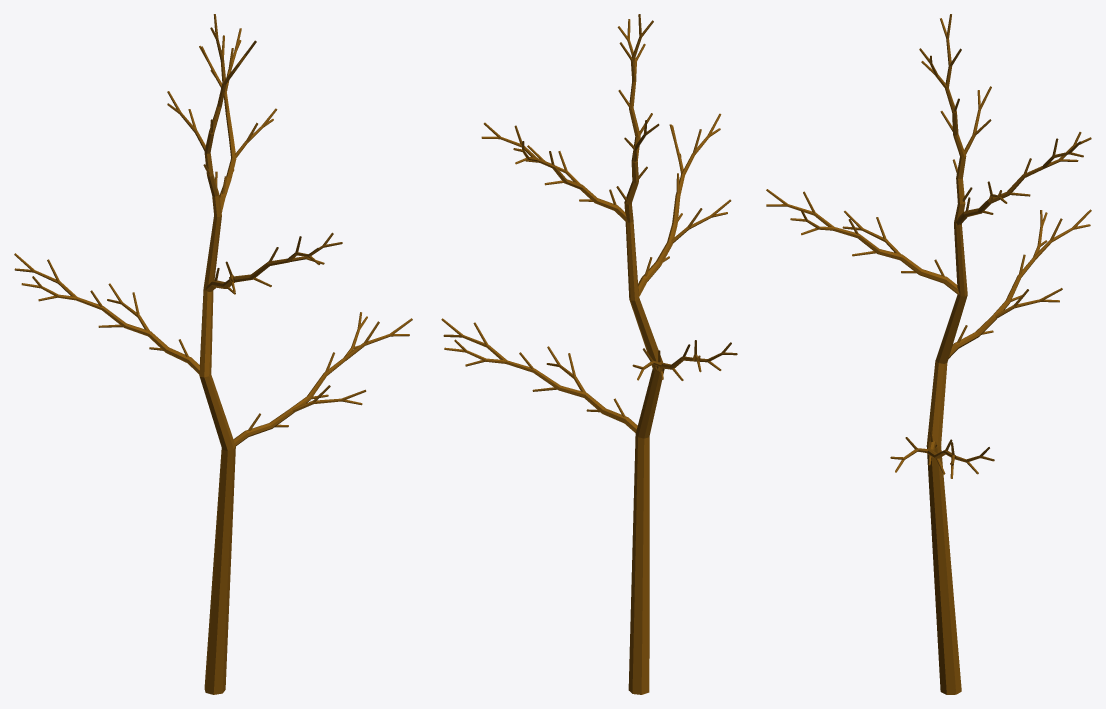
Rendered from arbol2.fbx.
The picture shows the model from 3 angles, left to right: view 1: azimuth 30°, elevation 25°; view 2: azimuth 150°, elevation 25°; view 3: azimuth 270°, elevation 25°; orthographic projection.
Visible parts, largest first — view 1: ARVORE_SEM.001; view 2: ARVORE_SEM.001; view 3: ARVORE_SEM.001.
Boxes of the visible parts, left/top/right/bottom form: ARVORE_SEM.001: left=14, top=14, right=412, bottom=694; ARVORE_SEM.001: left=441, top=14, right=737, bottom=694; ARVORE_SEM.001: left=766, top=14, right=1091, bottom=694.
Bounding box in the file's own units: 1305 × 2456 × 1072.
